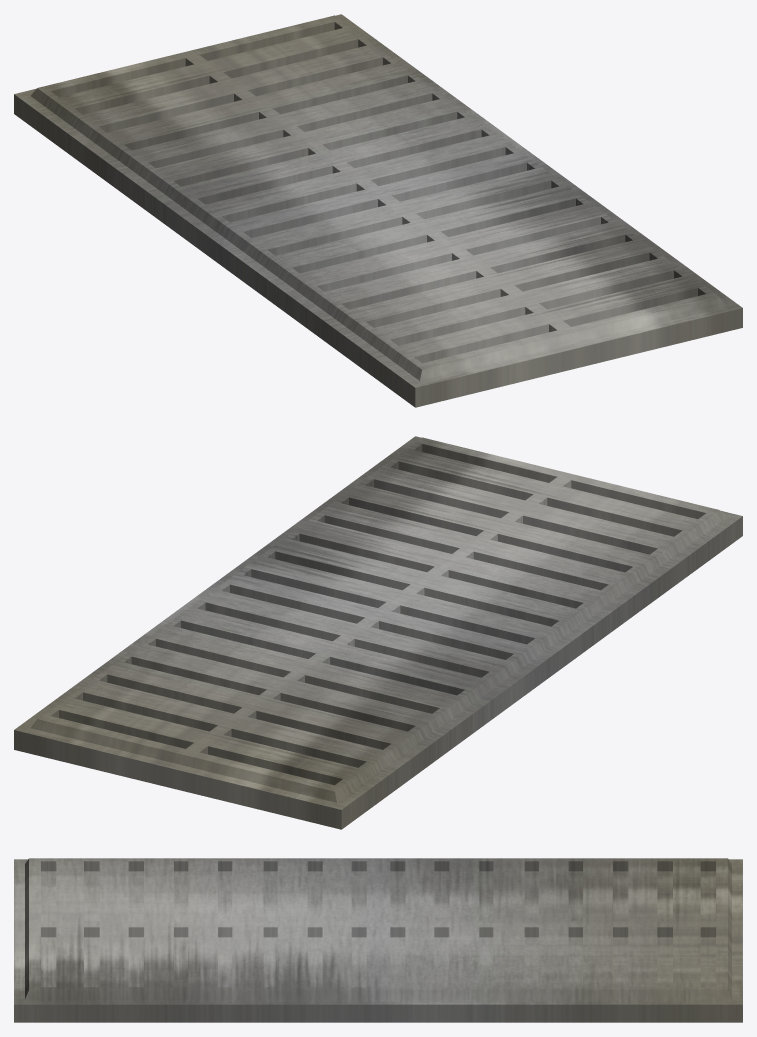
The model's file is floor1.fbx.
3 views of the same model, one above another, from view 1: azimuth 30°, elevation 25°; view 2: azimuth 150°, elevation 25°; view 3: azimuth 270°, elevation 25° (orthographic). The views are drawn at different scales.
Visible parts, largest first — view 1: floor1; view 2: floor1; view 3: floor1.
Boxes of the visible parts, x1=… form: floor1: x1=14, y1=14, x2=742, y2=407; floor1: x1=14, y1=436, x2=742, y2=829; floor1: x1=14, y1=858, x2=742, y2=1022.
Size of the model in its own units: 84.42 by 6.98 by 179.
